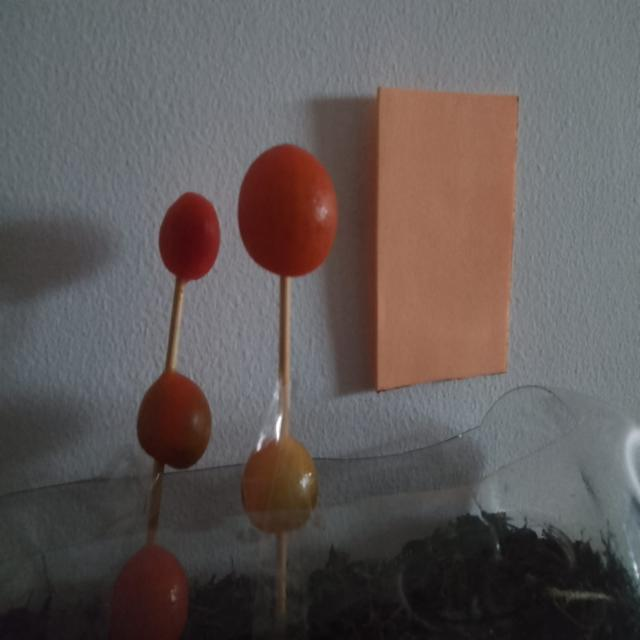card: (375, 88, 518, 390)
fruit_maturation: (241, 436, 318, 534)
fully_grown: (238, 144, 337, 277), (110, 544, 189, 639), (137, 371, 211, 469), (158, 192, 220, 282)
